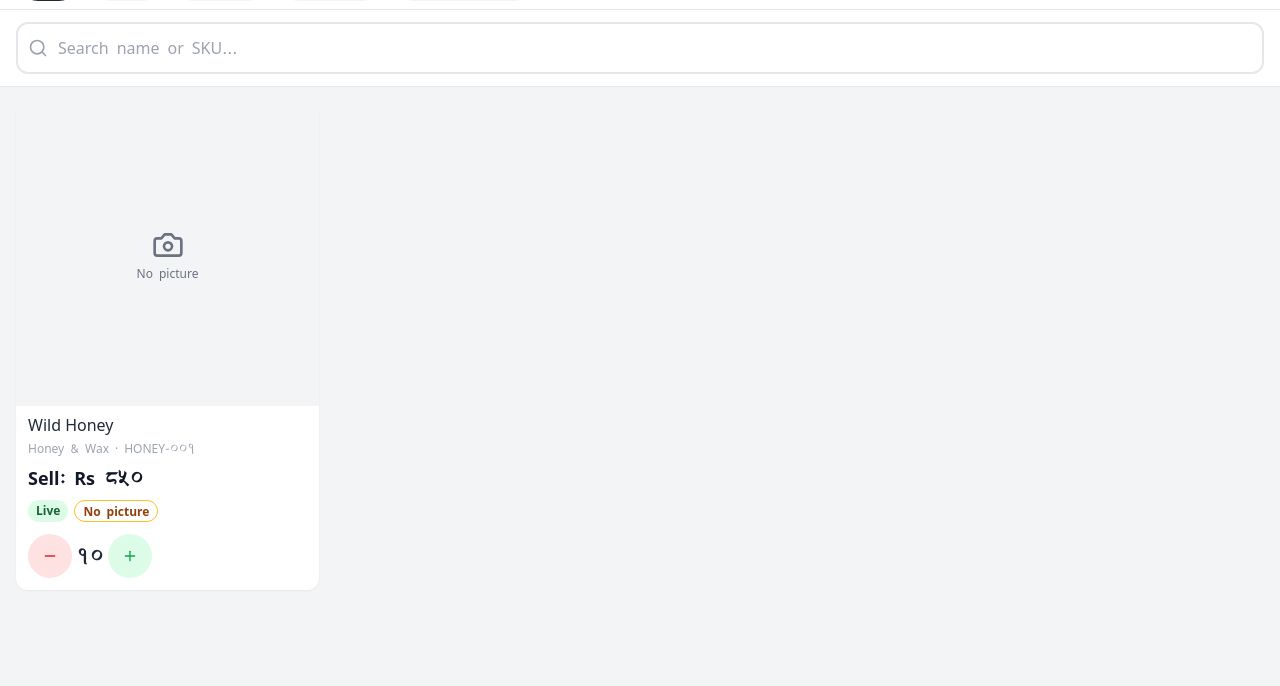
Test case: BeekeepingInventoryPage › shows the server message when a stock change is refused
This screenshot has width=1280, height=686.
(page scrolled)
Click the button named "Decrease stock of Wild Honey" at (50, 556), box [28,534,72,578]
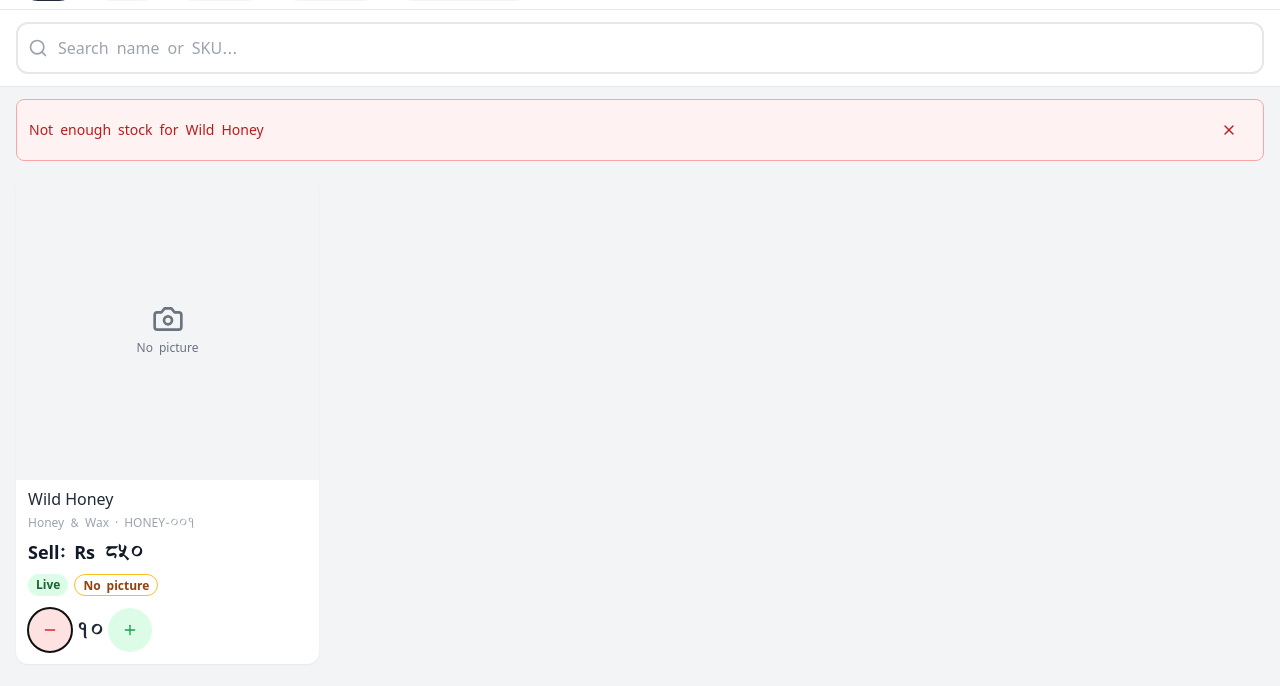
Expected: the message reads "Not enough stock for Wild Honey", [29,118,264,141]
